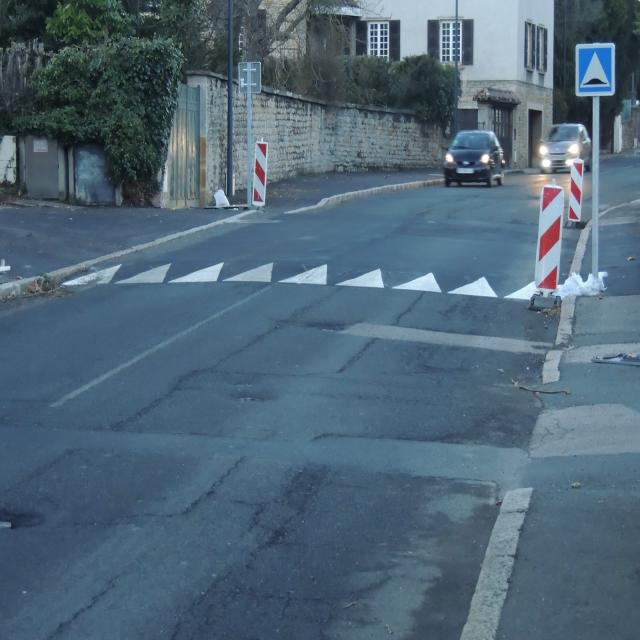hump: (573, 39, 617, 101)
